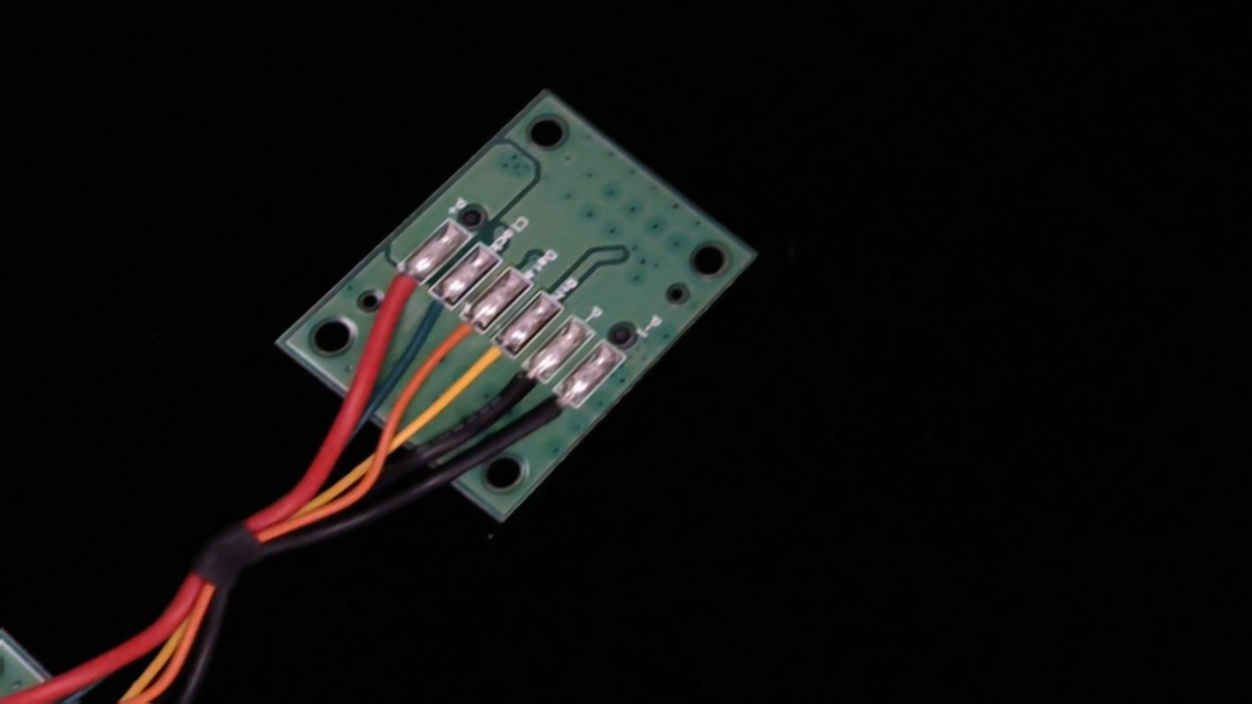Black: (470, 351, 564, 434)
Black1: (507, 376, 594, 454)
Green: (389, 278, 472, 350)
Orange: (407, 302, 498, 382)
Red: (345, 253, 437, 330)
Yellow: (437, 325, 531, 408)
